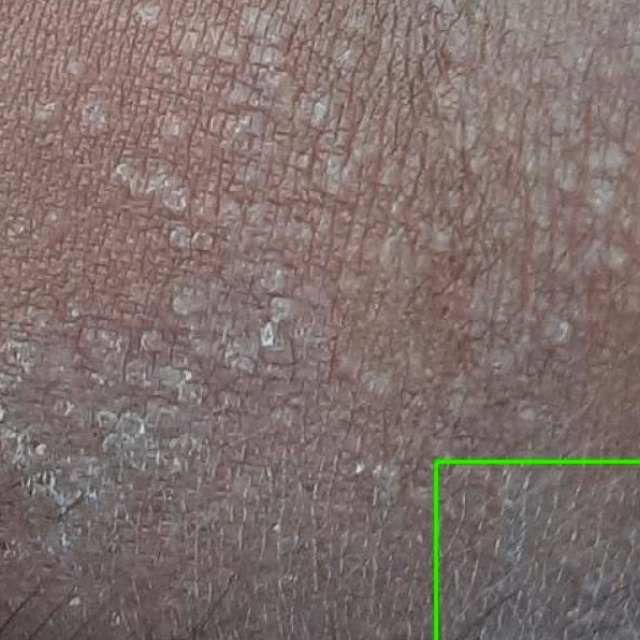Atopic Dermatitis: (436, 461, 639, 639)
